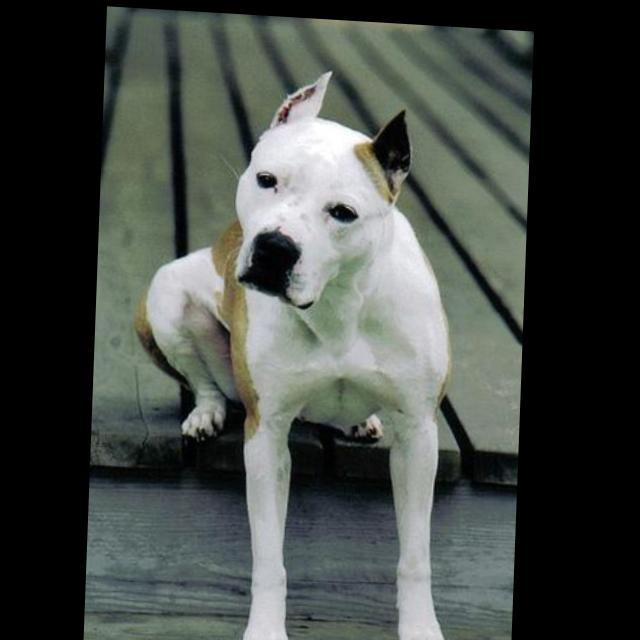amstaff: (127, 56, 473, 640)
